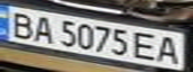0: (75, 20, 93, 52)
5: (109, 26, 133, 59), (54, 17, 78, 48)
7: (90, 24, 112, 54)
A: (154, 34, 187, 65), (30, 14, 57, 44)
B: (3, 9, 39, 39)
E: (130, 29, 163, 62)
